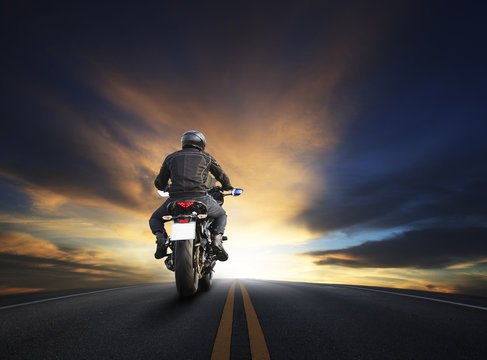motor: (142, 181, 242, 302)
